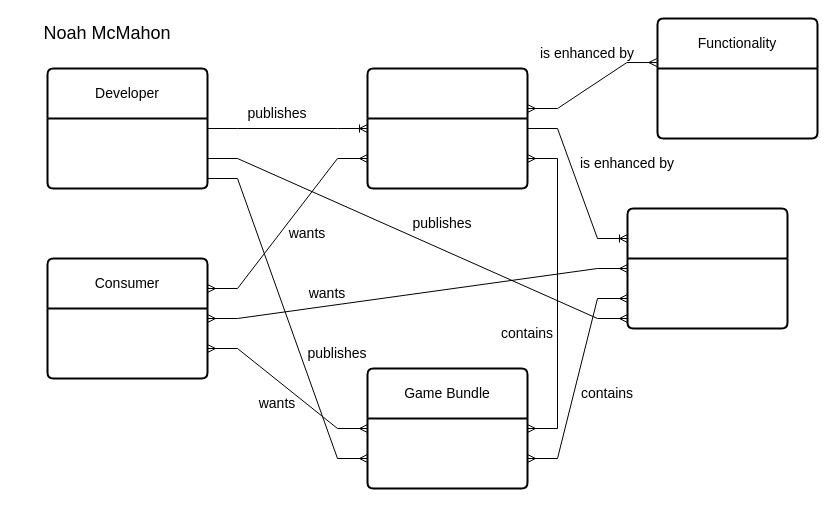
This 835x506 diagram has some shape labels left out. Each missing label, with the centre of its shape:
DLC: [707,268]
Video Game: [447,128]
